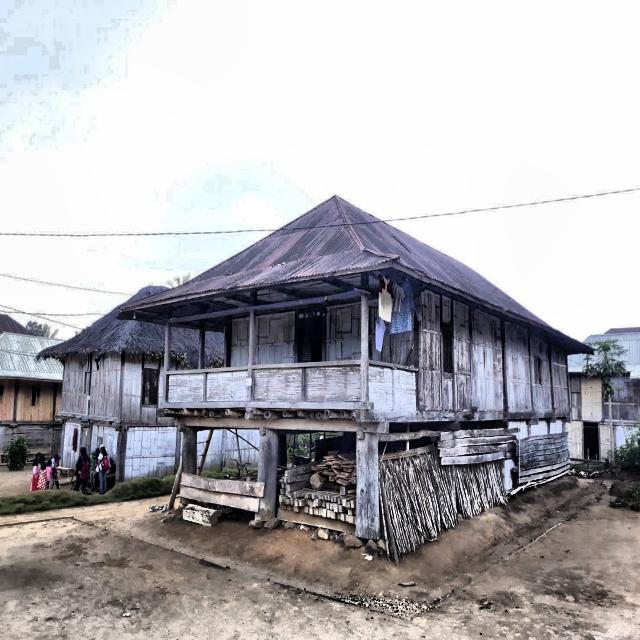column: (356, 431, 380, 539), (256, 429, 278, 519), (115, 425, 129, 486), (182, 426, 197, 474)
door: (296, 311, 325, 362), (583, 422, 600, 459)
ornamen: (306, 366, 361, 401), (254, 368, 302, 402), (206, 370, 248, 402), (168, 373, 203, 402), (369, 366, 392, 410), (395, 370, 416, 411)
roof: (123, 196, 589, 352), (39, 286, 171, 358), (0, 332, 62, 381), (582, 333, 640, 378), (171, 329, 198, 362), (0, 314, 29, 334), (206, 332, 223, 357), (569, 356, 583, 372)
wall: (472, 309, 503, 410), (124, 426, 177, 481), (418, 292, 442, 410), (504, 322, 531, 410), (203, 429, 259, 471), (255, 311, 295, 365), (325, 302, 361, 360), (90, 352, 121, 417), (453, 301, 471, 410), (0, 423, 61, 455), (530, 335, 553, 412), (16, 380, 54, 420), (62, 355, 87, 415), (121, 354, 142, 422), (550, 348, 570, 415), (611, 377, 640, 422), (230, 318, 250, 367), (581, 377, 602, 422), (63, 423, 80, 466), (0, 379, 16, 421), (566, 421, 583, 458), (570, 373, 582, 421), (249, 442, 251, 444)
window: (142, 367, 159, 405), (442, 323, 453, 373), (533, 356, 542, 385), (32, 385, 41, 406), (85, 373, 90, 393), (0, 385, 3, 403)
